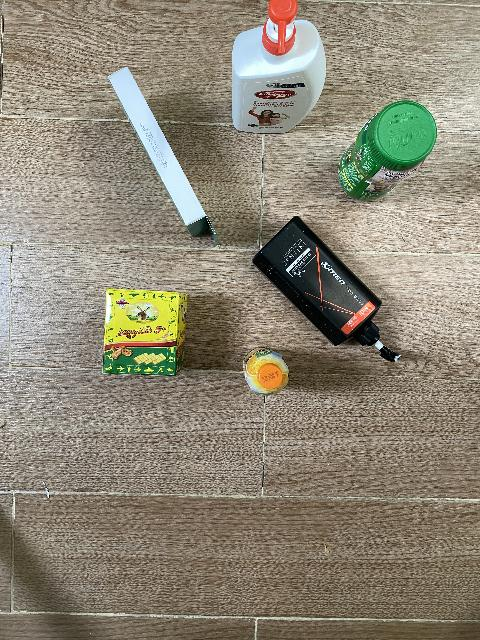4D_medical_face-mask: (109, 68, 215, 238)
X-men: (252, 216, 401, 362)
life-buoy: (232, 0, 326, 134)
luong_kho: (103, 289, 188, 376)
milo: (338, 100, 438, 202)
teppy_orange_juice: (243, 348, 289, 395)
